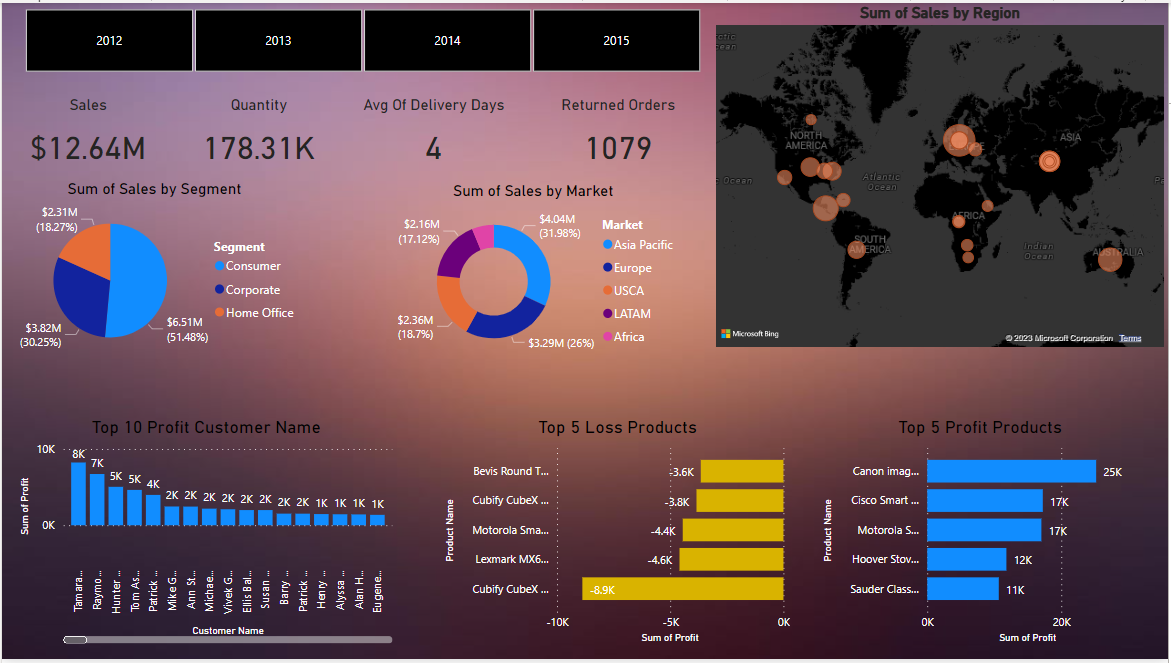

The dashboard page shown, as its layout file describes it:
{"tool":"powerbi","page":{"name":"Page 1","canvas":[1280,720],"ordinal":0},"visuals":[{"type":"card","title":"Sales","fields":{"Values":["Orders.Sales"]},"box":[0,101.5,189.4,90.6],"z":0},{"type":"card","title":"Quantity","fields":{"Values":["Orders.Quantity"]},"box":[189.4,101.5,185.2,90.6],"z":1000},{"type":"card","title":"Avg  Of Delivery Days","fields":{"Values":["Orders.Delivery Date"]},"box":[374.6,101.5,199,90.6],"z":2000},{"type":"slicer","fields":{"Values":["Orders.Year"]},"box":[0,0,790.4,82.3],"z":3000},{"type":"card","title":"Returned Orders","fields":{"Values":["Returns.Return Orders"]},"box":[573.6,101.5,205.8,90.6],"z":4000},{"type":"map","fields":{"Size":["Orders.Sales"],"Category":["Orders.Region"]},"box":[779.4,0,500.9,382.8],"z":5000},{"type":"barChart","title":"Top 5 Profit Products","fields":{"Y":["Orders.Profit"],"Category":["Orders.Product Name"]},"box":[898.8,413,355.4,253.9],"z":6000},{"type":"barChart","title":"Top 5 Loss Products","fields":{"Y":["Orders.Profit"],"Category":["Orders.Product Name"]},"box":[488.5,413,388.3,253.9],"z":7000},{"type":"pieChart","fields":{"Category":["Orders.Segment"],"Y":["Orders.Sales"]},"box":[0,193.5,334.8,203.1],"z":8000},{"type":"donutChart","fields":{"Category":["Orders.Market"],"Y":["Orders.Sales"]},"box":[363.6,183.9,334.8,200.3],"z":9000},{"type":"map","fields":{"Size":["Orders.Sales"],"Category":["Orders.Region"]},"box":[779.1,0,500.9,382.8],"z":10000},{"type":"columnChart","title":"Top 10 Profit Customer Name","fields":{"Y":["Orders.Profit"],"Category":["Orders.Customer Name"]},"box":[30.2,413,418.5,253.9],"z":11000}]}

Visuals, with their boxes in screenshot pixels (x1, y1, x2, y2), scaled from the page's 1280x720 canvas onto the 1171x663 screenshot:
"Sales" card: region(0, 93, 173, 177)
"Quantity" card: region(173, 93, 343, 177)
"Avg  Of Delivery Days" card: region(343, 93, 525, 177)
slicer - Orders.Year: region(0, 0, 723, 76)
"Returned Orders" card: region(525, 93, 713, 177)
map - Orders.Sales x Orders.Region: region(713, 0, 1170, 352)
"Top 5 Profit Products" barChart: region(822, 380, 1147, 614)
"Top 5 Loss Products" barChart: region(447, 380, 802, 614)
pieChart - Orders.Segment x Orders.Sales: region(0, 178, 306, 365)
donutChart - Orders.Market x Orders.Sales: region(333, 169, 639, 354)
map - Orders.Sales x Orders.Region: region(713, 0, 1170, 352)
"Top 10 Profit Customer Name" columnChart: region(28, 380, 410, 614)
